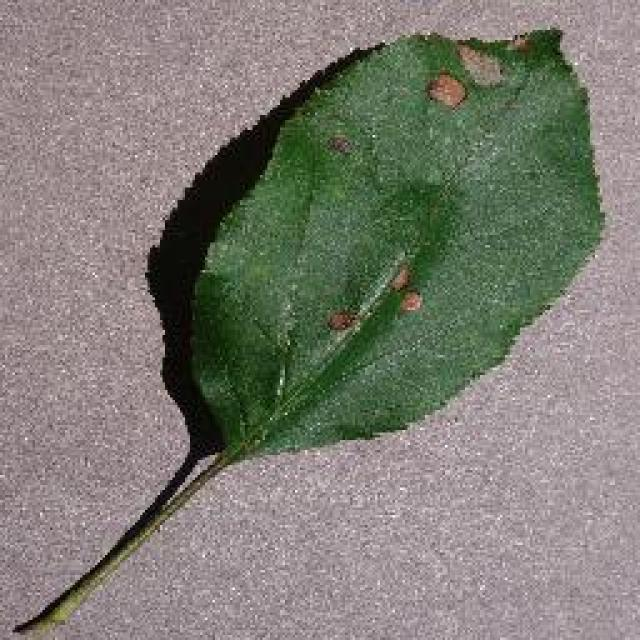Black_rot: (10, 25, 608, 637)
